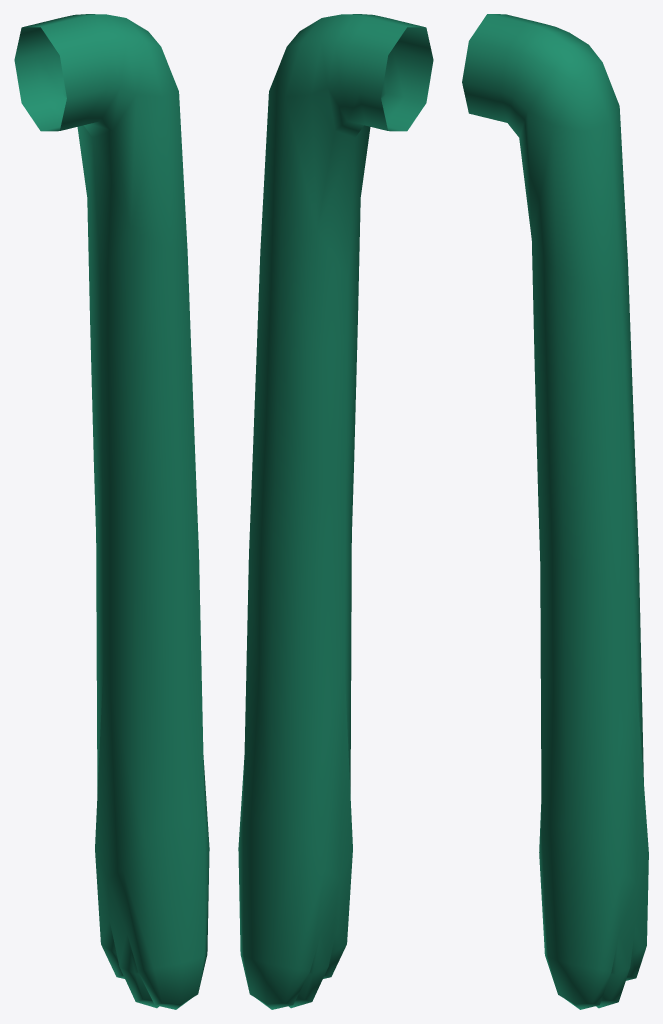
The model's file is Bmo_brazo_der.obj.
The picture shows the model from 3 angles, left to right: view 1: azimuth 30°, elevation 25°; view 2: azimuth 150°, elevation 25°; view 3: azimuth 330°, elevation 25°; orthographic projection. The views are drawn at different scales.
Parts seen in each view (by area): view 1: Bmo_brazo_der; view 2: Bmo_brazo_der; view 3: Bmo_brazo_der.
Part boxes in pixels (left/top/right/bottom): Bmo_brazo_der: left=14, top=14, right=209, bottom=1009; Bmo_brazo_der: left=238, top=14, right=433, bottom=1009; Bmo_brazo_der: left=462, top=14, right=648, bottom=1009.
Bounding box in the file's own units: 0.1033 × 0.6389 × 0.0629.
